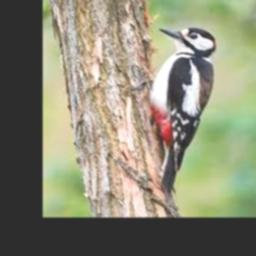Woodpecker: (149, 28, 216, 195)
